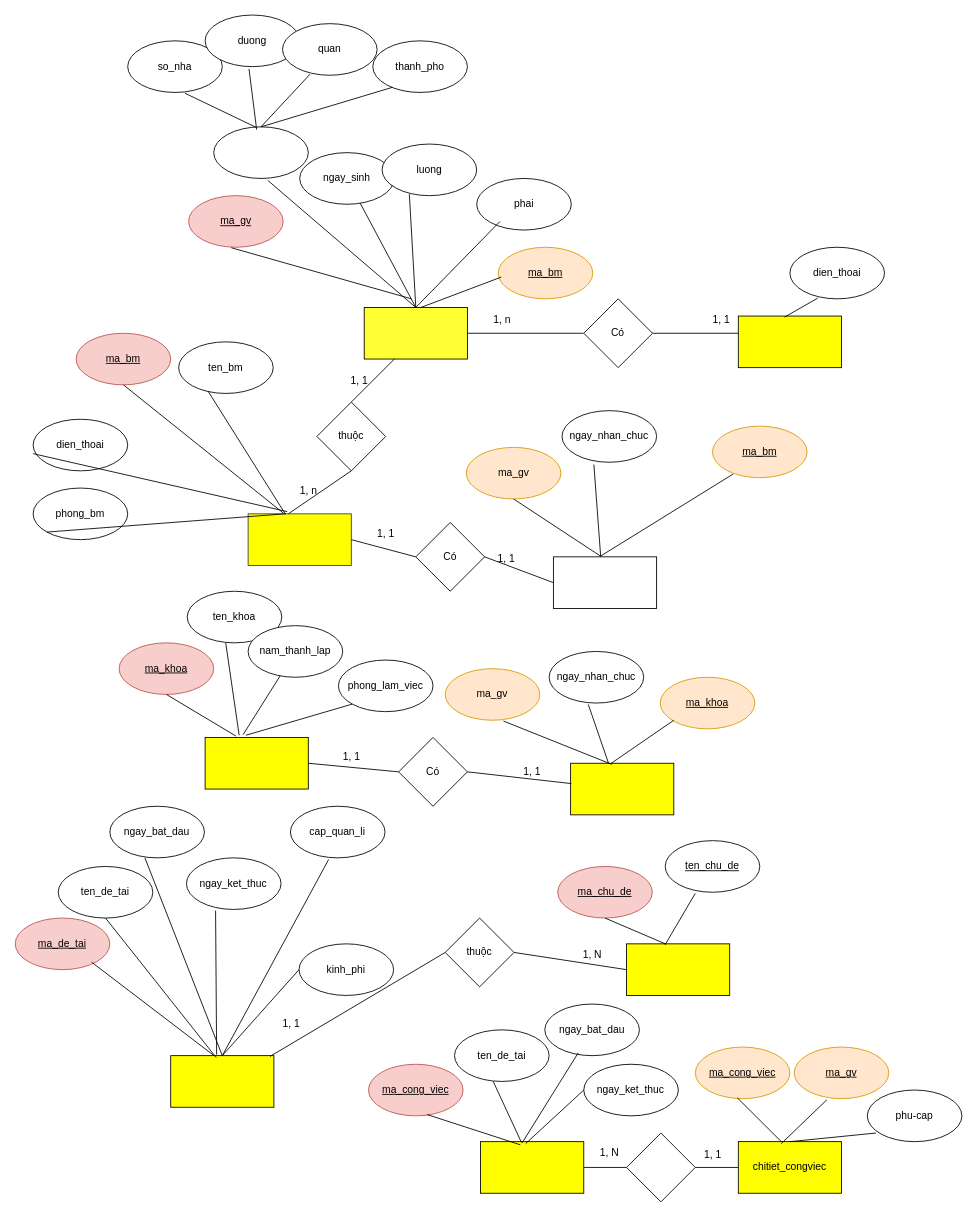
Image size: 977x1217. Some labels were removed from this diagram. The centre of each missing label's shape, as x and y in pixels:
"(dia_chi)" goes at point 260,152.
"bo_mon" goes at point 299,539.
"chu_de" goes at point 678,969.
"cong_viec" goes at point 532,1167.
"de_tai" goes at point 222,1081.
"giao_vien" goes at point 415,333.
"giaovien_dienthoai" goes at point 789,341.
"Gồm" goes at point 660,1167.
"khoa" goes at point 256,763.
"thongtin_truongbm" goes at point 605,582.
"thongtin_truongkhoa" goes at point 622,788.
